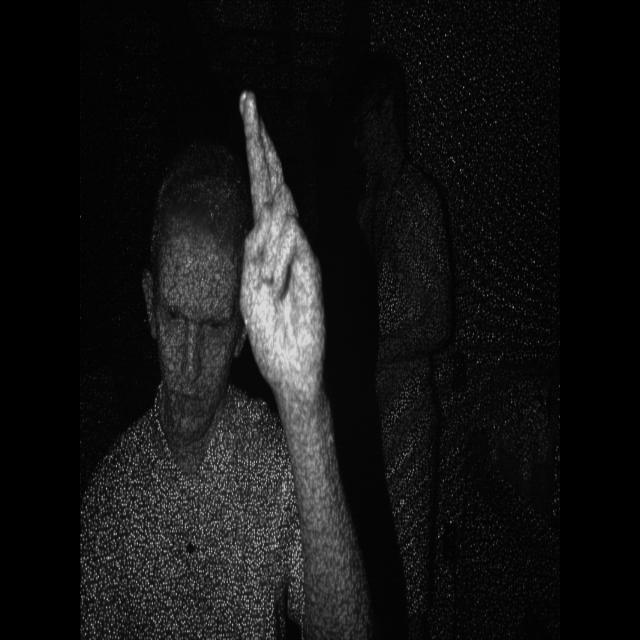R: (232, 85, 340, 396)
